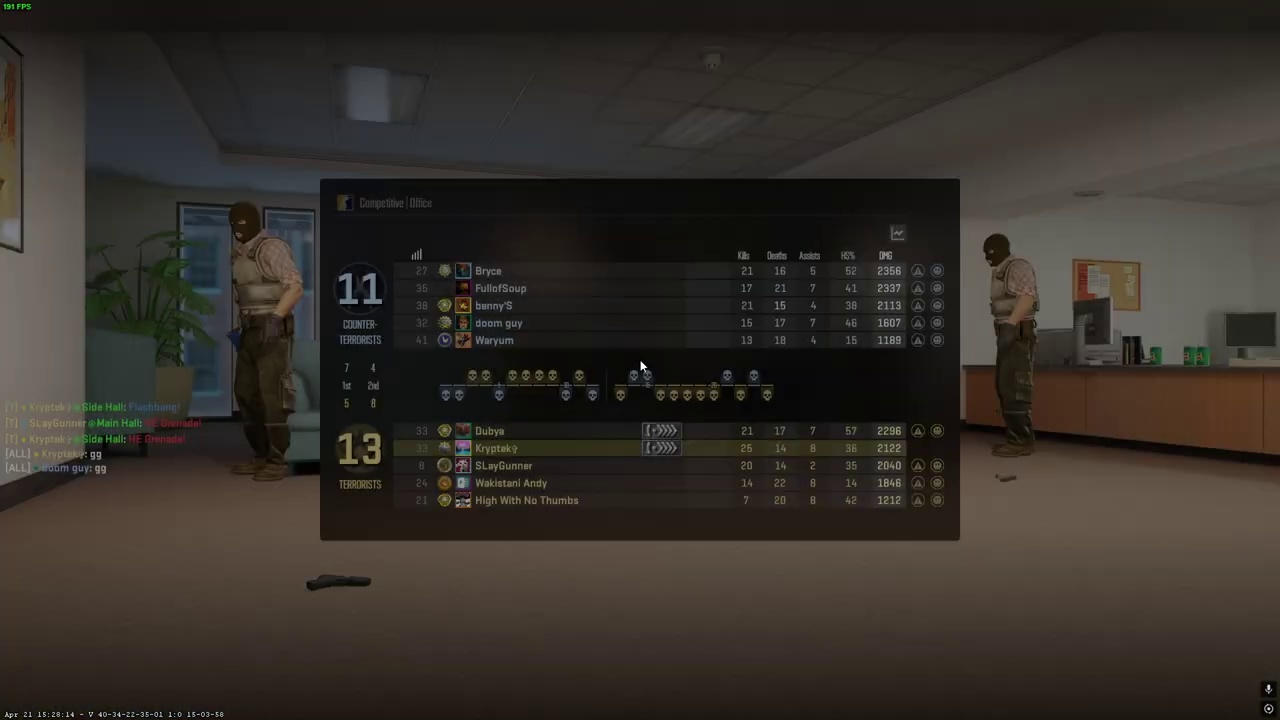Terrorist: (221, 201, 302, 481), (985, 232, 1043, 456)
